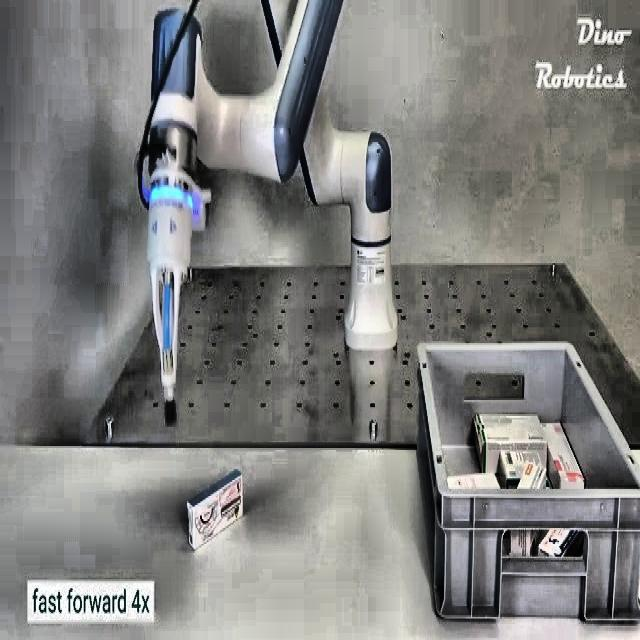robot: (135, 0, 398, 420)
